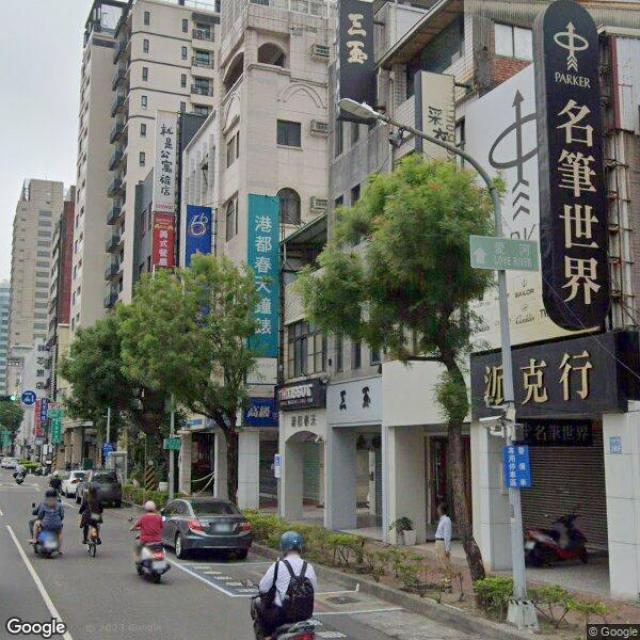Legalparking: (20, 458, 272, 574)
